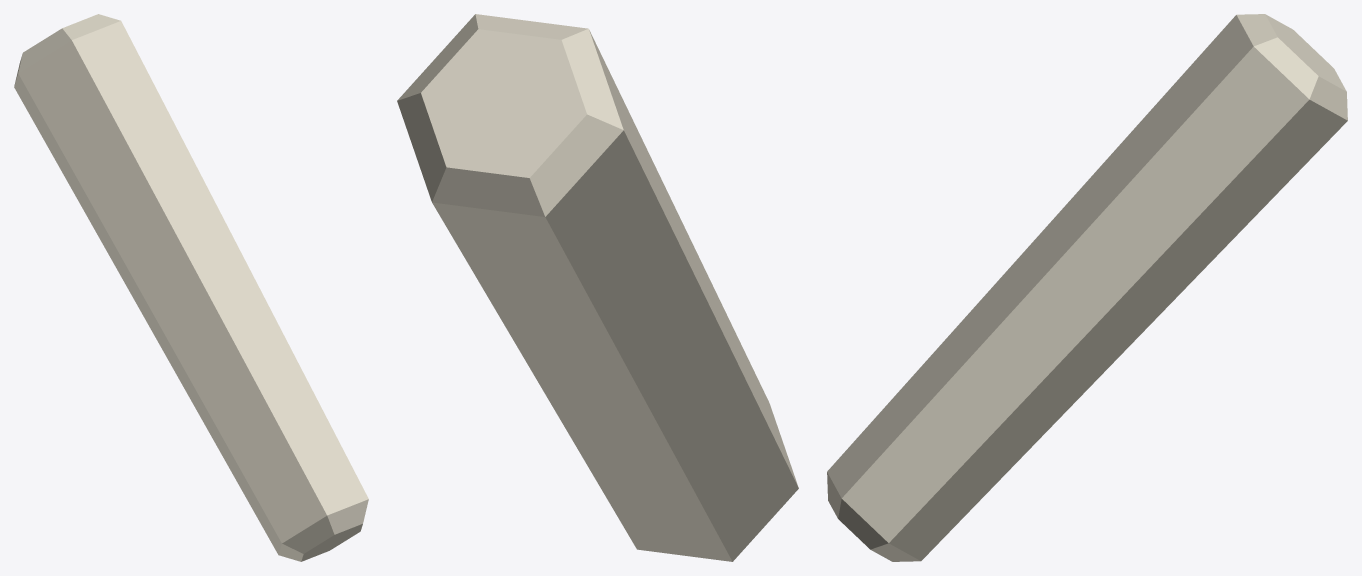
Rendered from rm2_arm_l_upper.obj.
The picture shows the model from 3 angles, left to right: view 1: azimuth 30°, elevation 25°; view 2: azimuth 150°, elevation 25°; view 3: azimuth 270°, elevation 25°; orthographic projection. The views are drawn at different scales.
Parts seen in each view (by area): view 1: rm2_arm_l_upper; view 2: rm2_arm_l_upper; view 3: rm2_arm_l_upper.
Part boxes in pixels (x1=…): rm2_arm_l_upper: x1=14, y1=14, x2=368, y2=561; rm2_arm_l_upper: x1=397, y1=14, x2=798, y2=561; rm2_arm_l_upper: x1=827, y1=14, x2=1347, y2=561.
Bounding box in the file's own units: 0.1372 × 0.3153 × 0.3039.
